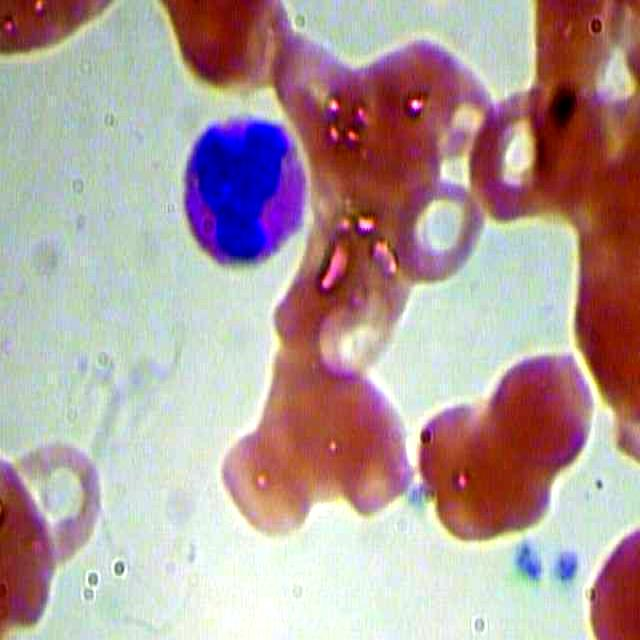Platelets: (549, 540, 585, 592), (513, 534, 549, 586)
RBC: (488, 336, 596, 476), (460, 86, 565, 230), (5, 426, 110, 570), (267, 23, 364, 156), (322, 388, 415, 521), (410, 387, 503, 520), (221, 420, 322, 541), (393, 170, 487, 286)
WBC: (165, 95, 317, 286)
